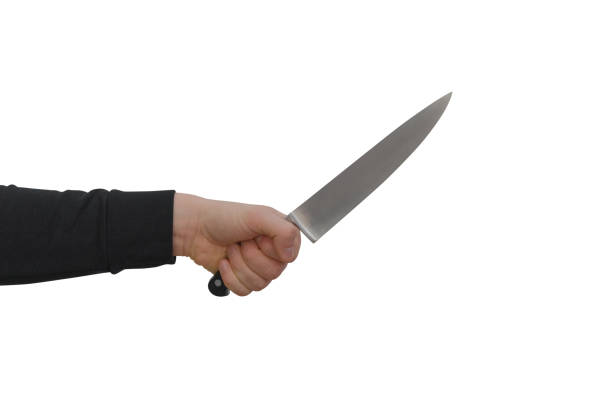knife: (206, 88, 453, 297)
